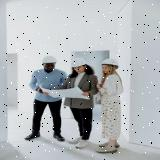Helmet: (100, 58, 120, 68), (69, 58, 87, 68), (40, 55, 59, 63)
